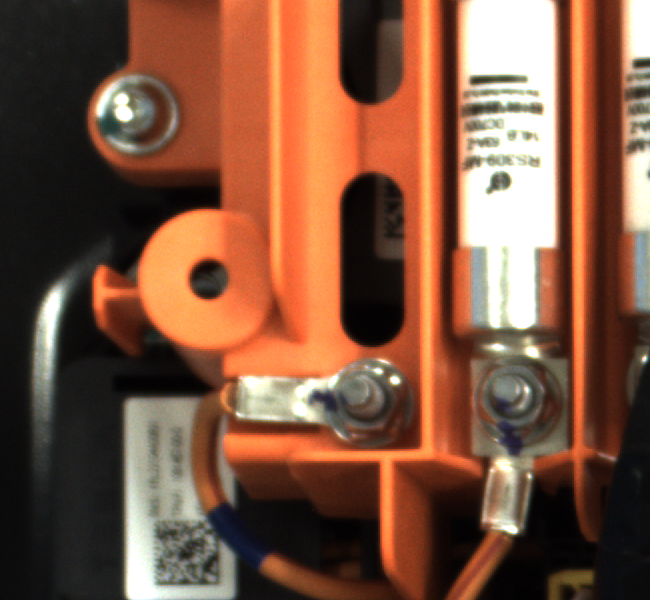screw_m: (81, 68, 202, 162)
screw_s: (323, 351, 427, 449), (472, 355, 578, 451)
